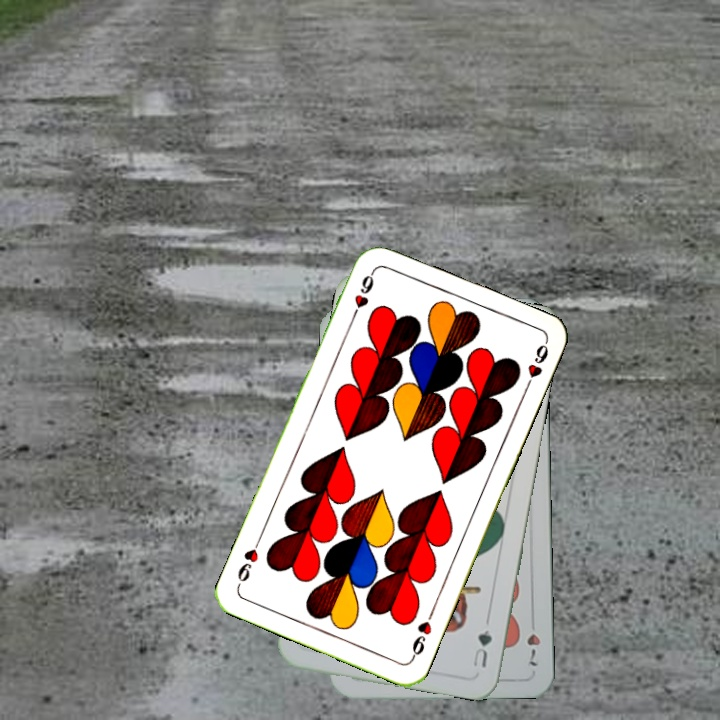GU: (469, 615, 495, 670)
H7: (522, 613, 542, 669)
H9: (407, 606, 437, 663), (347, 267, 377, 323)
